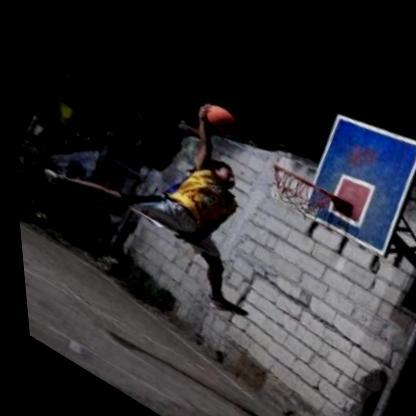basketball: (194, 92, 239, 141)
